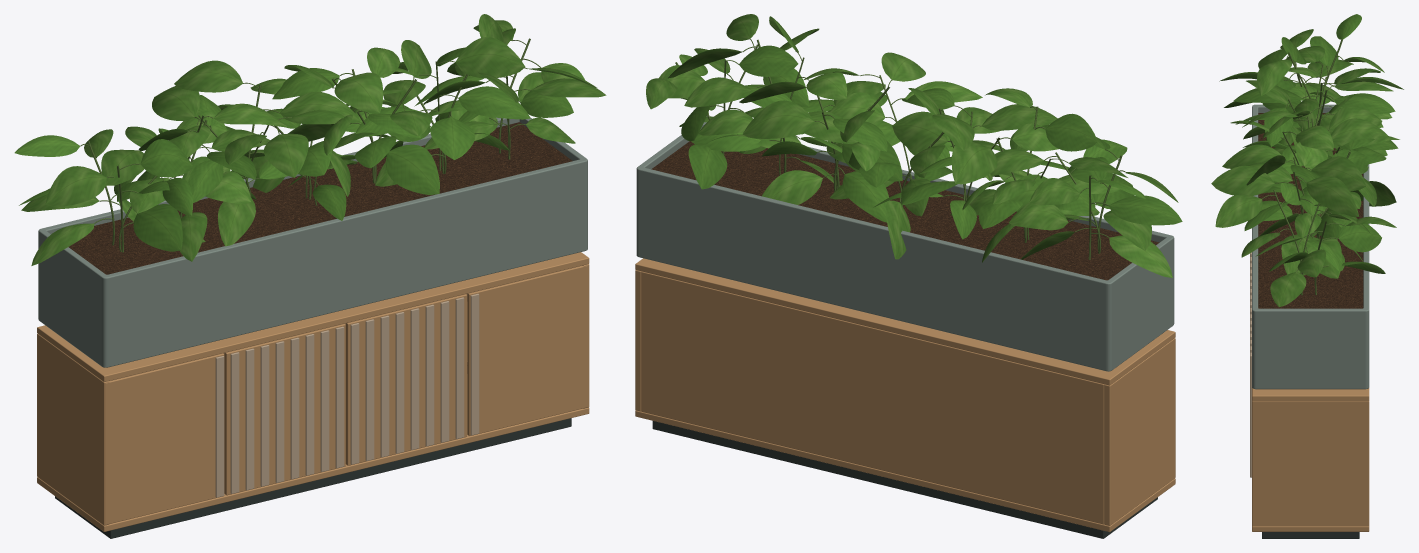
The model's file is botanicalDivider-12.glb.
3 renders of one model, left to right at view 1: azimuth 30°, elevation 25°; view 2: azimuth 150°, elevation 25°; view 3: azimuth 270°, elevation 25°, orthographic. The views are drawn at different scales.
Visible parts, largest first — view 1: Planter_pothos_leaves, Planter_oiled_oak, StoragePlanter_Door (×4), StoragePlanter_Batten (×18), Planter_loose_soil, StoragePlanter_Side, StoragePlanter_Top, StoragePlanter_Plinth, StoragePlanter_Bottom, Planter_pothos_stems, Planter_matte_accent; view 2: StoragePlanter_Back, Planter_pothos_leaves, Planter_oiled_oak, Planter_loose_soil, StoragePlanter_Side (×2), StoragePlanter_Top, StoragePlanter_Plinth, StoragePlanter_Bottom, Planter_pothos_stems, Planter_matte_accent; view 3: Planter_pothos_leaves, StoragePlanter_Side, Planter_oiled_oak, Planter_loose_soil, Planter_pothos_stems, StoragePlanter_Top, StoragePlanter_Bottom, StoragePlanter_Plinth, StoragePlanter_Batten.
Boxes of the visible parts, x1,y1,x2,y2 form: Planter_pothos_leaves: [14, 14, 606, 265]; Planter_oiled_oak: [38, 117, 587, 367]; StoragePlanter_Door (×4): [105, 265, 588, 524]; StoragePlanter_Batten (×18): [215, 293, 479, 497]; Planter_loose_soil: [68, 122, 572, 274]; StoragePlanter_Side: [37, 333, 109, 525]; StoragePlanter_Top: [37, 252, 589, 381]; StoragePlanter_Plinth: [55, 418, 571, 538]; StoragePlanter_Bottom: [37, 374, 589, 531]; Planter_pothos_stems: [80, 38, 541, 252]; Planter_matte_accent: [112, 289, 331, 349]; StoragePlanter_Back: [641, 271, 1104, 524]; Planter_pothos_leaves: [646, 14, 1182, 277]; Planter_oiled_oak: [636, 122, 1174, 371]; Planter_loose_soil: [651, 141, 1159, 280]; StoragePlanter_Side (×2): [635, 270, 1175, 525]; StoragePlanter_Top: [635, 258, 1175, 385]; StoragePlanter_Plinth: [652, 421, 1157, 538]; StoragePlanter_Bottom: [635, 410, 1175, 532]; Planter_pothos_stems: [675, 39, 1125, 259]; Planter_matte_accent: [643, 229, 1081, 347]; Planter_pothos_leaves: [1211, 14, 1403, 307]; StoragePlanter_Side: [1252, 401, 1369, 526]; Planter_oiled_oak: [1252, 104, 1369, 389]; Planter_loose_soil: [1258, 113, 1363, 308]; Planter_pothos_stems: [1262, 39, 1350, 295]; StoragePlanter_Top: [1252, 387, 1369, 401]; StoragePlanter_Bottom: [1252, 526, 1369, 531]; StoragePlanter_Plinth: [1262, 532, 1359, 538]; StoragePlanter_Batten: [1250, 352, 1251, 477].
Size of the model in its own units: 2.26 by 1.58 by 0.7924.
10 materials, 2 textured.
